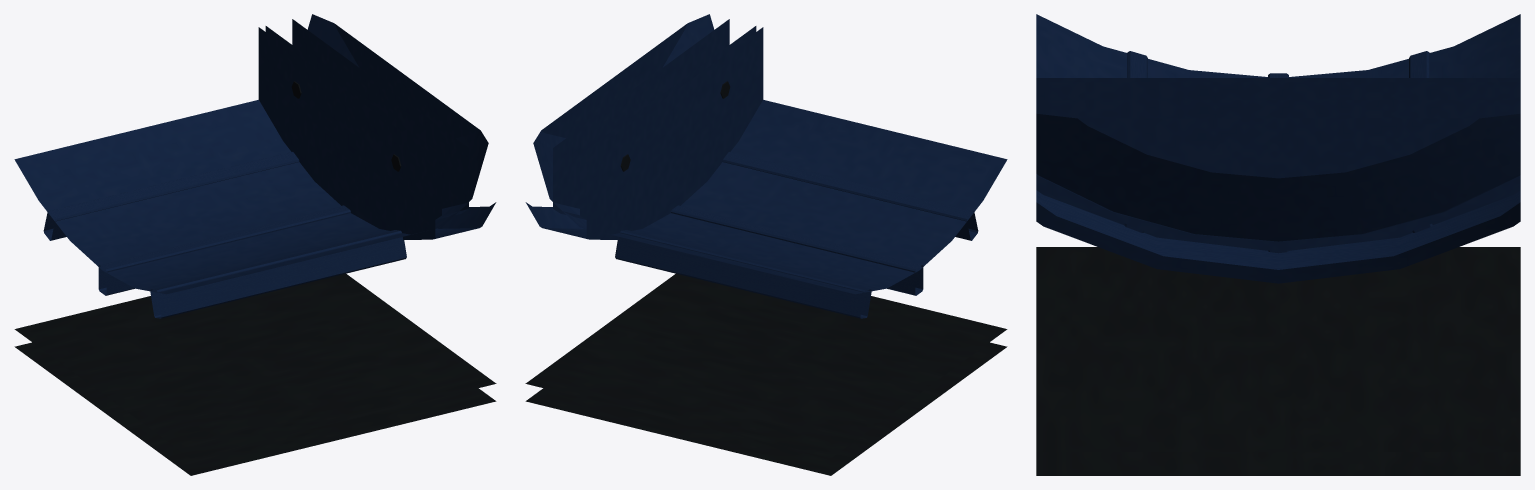
Rendered from cell_14.obj.
The picture shows the model from 3 angles, left to right: view 1: azimuth 30°, elevation 25°; view 2: azimuth 150°, elevation 25°; view 3: azimuth 270°, elevation 25°; orthographic projection. The views are drawn at different scales.
Visible parts, largest first — view 1: cell_14; view 2: cell_14; view 3: cell_14.
Boxes of the visible parts, x1,y1,x2,y2 form: cell_14: [14, 14, 496, 475]; cell_14: [525, 14, 1007, 475]; cell_14: [1036, 14, 1520, 475].
Bounding box in the file's own units: 1 × 0.813 × 1.
